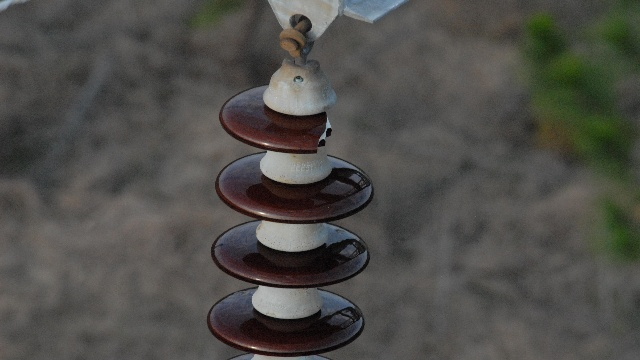broken_local: (308, 100, 337, 154)
insulator_unspecified: (209, 85, 373, 359)
